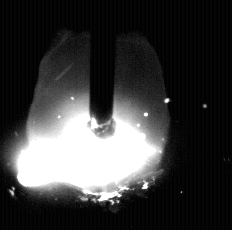arame: (91, 0, 115, 125)
poca: (26, 0, 168, 230)
